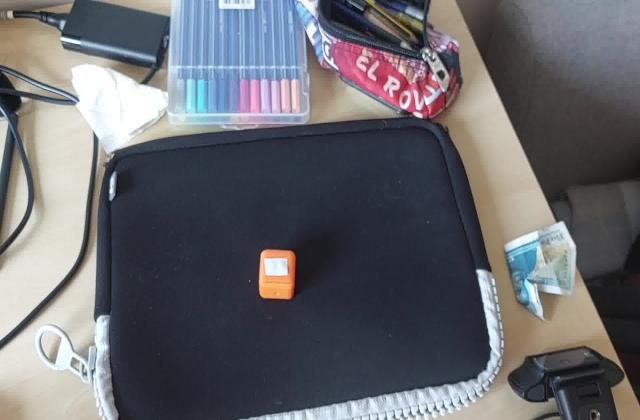sticker: (258, 250, 298, 302)
white: (262, 255, 292, 278)
